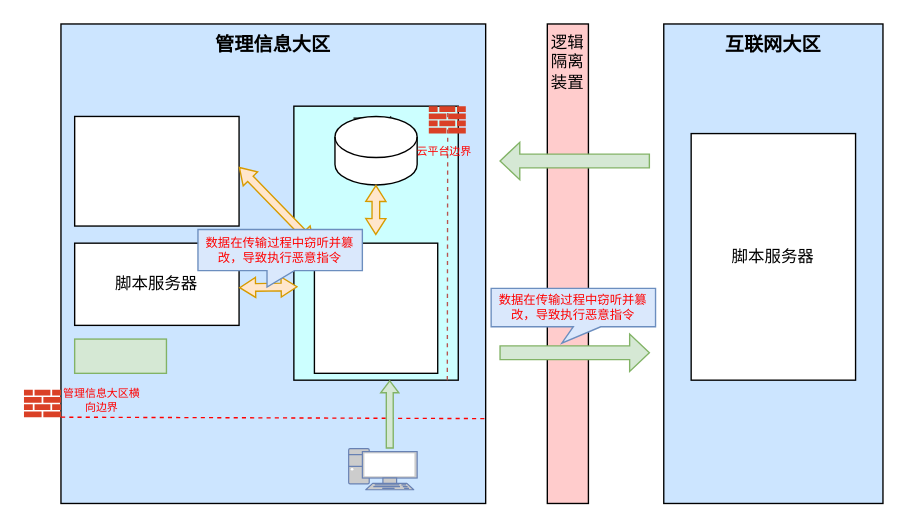
Image size: 907x527. Some labels were removed from this diagram. The centre of each missing label's shape, as x and y in pixels:
业务系统运维精益化管理系统: pixel 375 307
数据库RDS: pixel 375 150
省侧: pixel 119 355
集成应用 统一权限管理平台ISC 精卫智能运维平台: pixel 156 170
